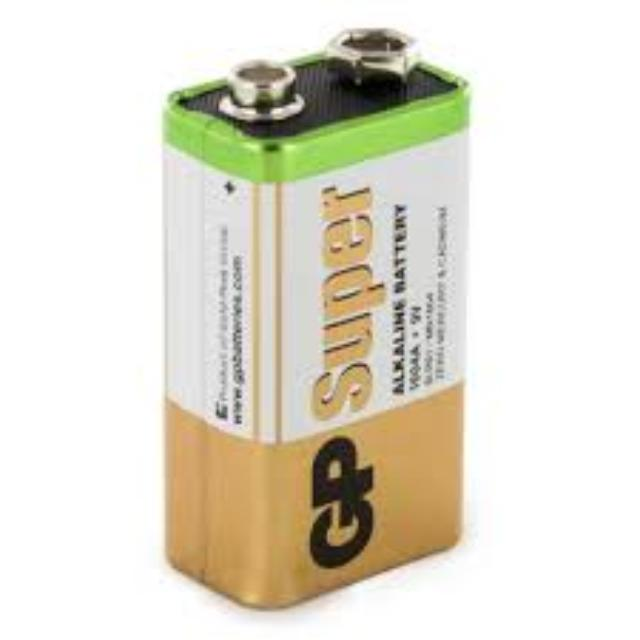Battery: (162, 28, 475, 612)
